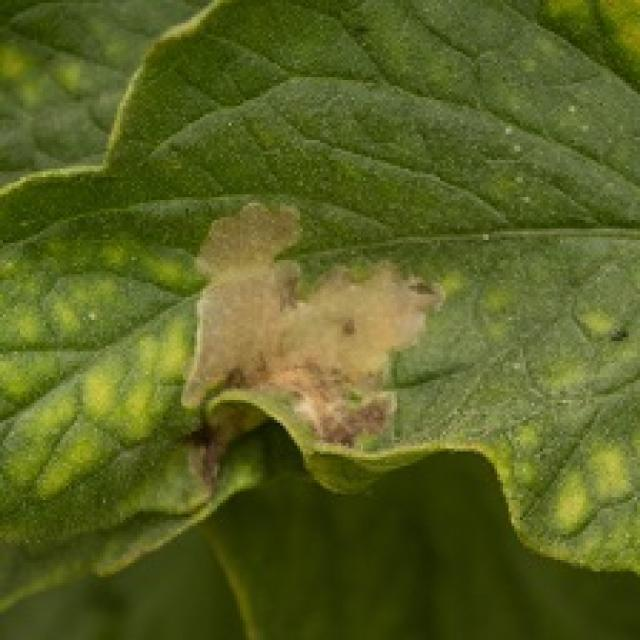Tuta absoluta: (162, 187, 451, 458)
